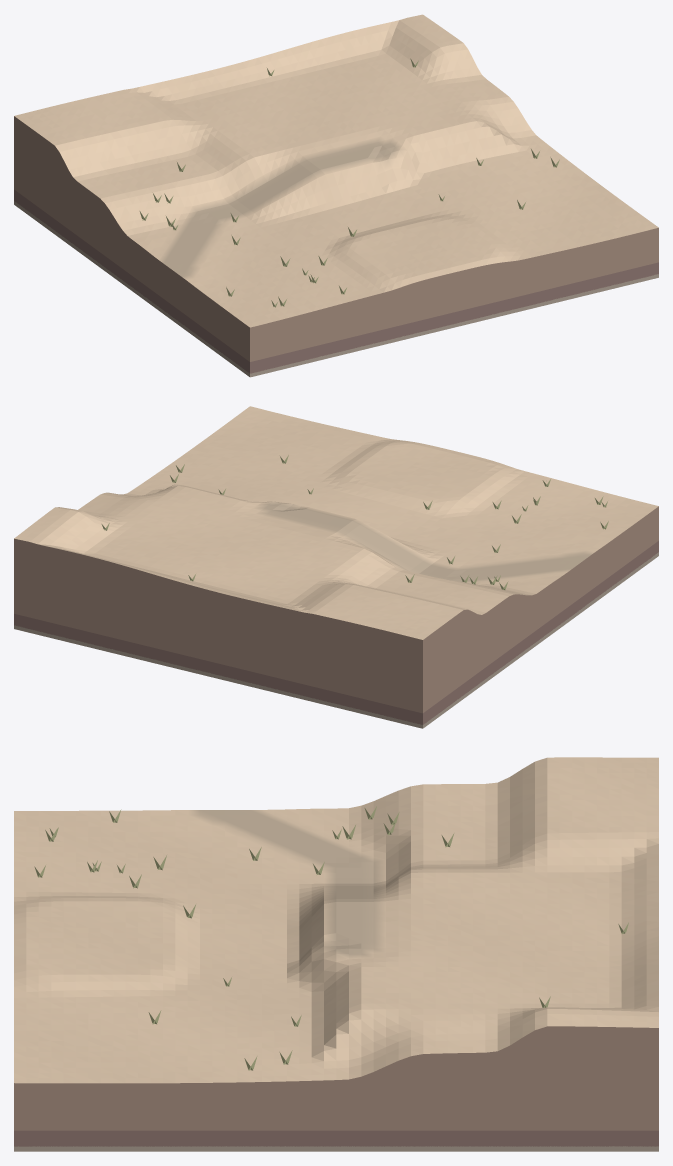
The picture shows the model from 3 angles, top to bottom: view 1: azimuth 30°, elevation 25°; view 2: azimuth 150°, elevation 25°; view 3: azimuth 270°, elevation 25°; orthographic projection. The views are drawn at different scales.
Parts seen in each view (by area): view 1: proc_ground, proc_skirt, proc_grass; view 2: proc_ground, proc_skirt, proc_grass; view 3: proc_ground, proc_skirt, proc_grass.
Part boxes in pixels (x1,y1,x2,y2): proc_ground: [14, 14, 658, 327]; proc_skirt: [14, 116, 658, 377]; proc_grass: [139, 58, 559, 307]; proc_ground: [14, 406, 658, 639]; proc_skirt: [14, 506, 658, 728]; proc_grass: [101, 455, 608, 589]; proc_ground: [14, 757, 658, 1083]; proc_skirt: [14, 1026, 658, 1151]; proc_grass: [34, 806, 628, 1070].
Size of the model in its own units: 8 by 1.74 by 8.
